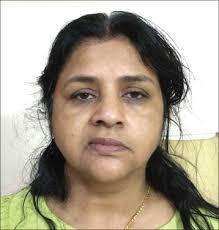strokeEyeWeak: (62, 72, 156, 108)
strokeMouthWeak: (85, 133, 135, 156)
